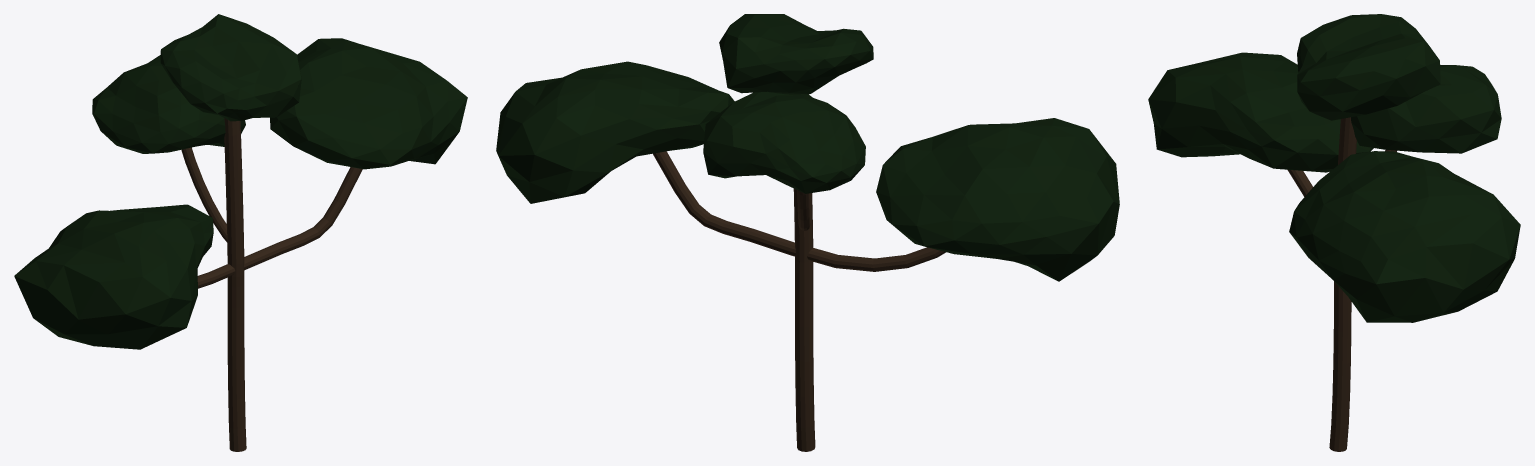
The model's file is SM_light_tree_09.fbx.
3 renders of one model, left to right at view 1: azimuth 30°, elevation 25°; view 2: azimuth 150°, elevation 25°; view 3: azimuth 270°, elevation 25°, orthographic. The views are drawn at different scales.
Parts seen in each view (by area): view 1: light_tree_09; view 2: light_tree_09; view 3: light_tree_09.
Boxes of the visible parts, x1,y1,x2,y2 form: light_tree_09: (14,14,467,451); light_tree_09: (496,14,1119,451); light_tree_09: (1148,14,1520,451).
Size of the model in its own units: 76.01 by 58.86 by 47.47.
